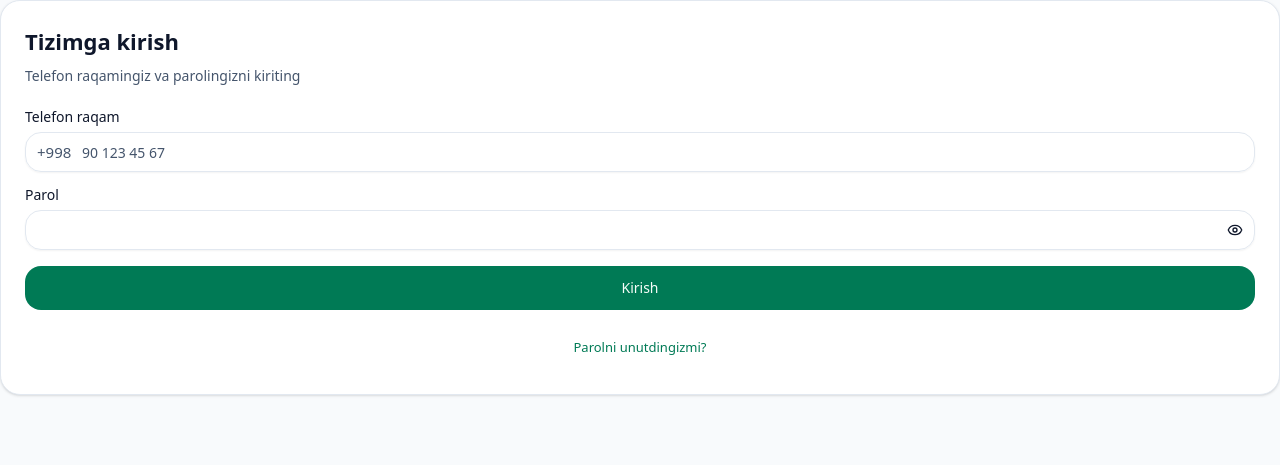
Test: LoginPage › 429 da teskari sanoq ko'rsatiladi va tugma bloklanadi
Type "901234567" into the field labelled "Telefon raqam" at [640, 152], box [25, 132, 1255, 172]
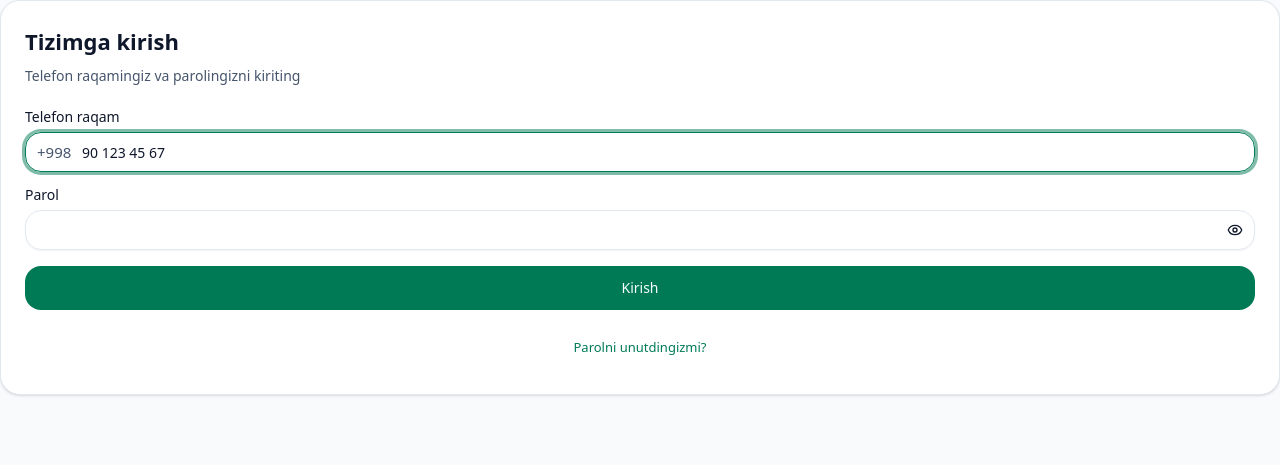
Type "parol123" into the password field labelled "Parol" at [640, 230], box [25, 210, 1255, 250]
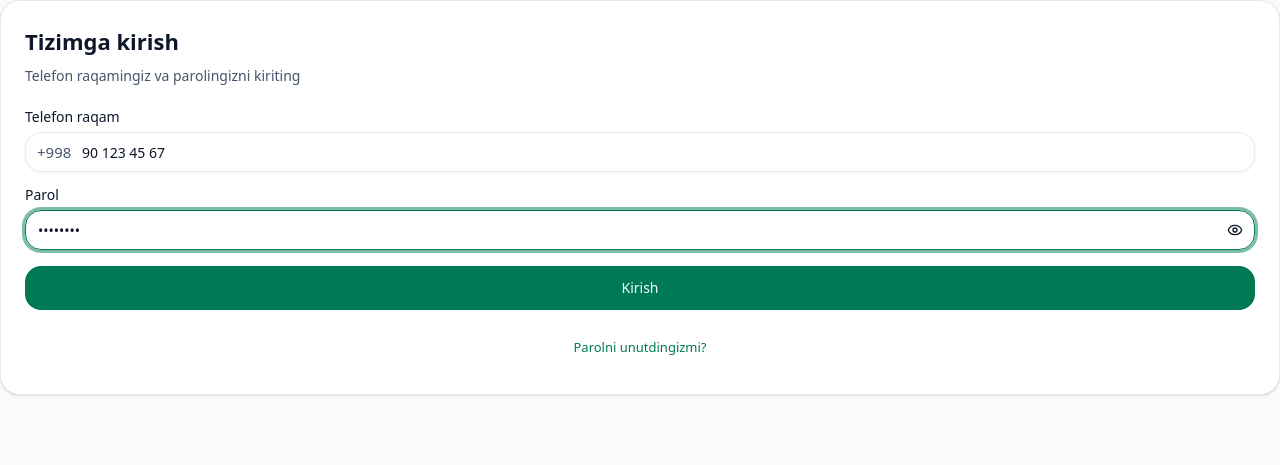
Click the button "Kirish" at [640, 288], box [25, 266, 1255, 310]
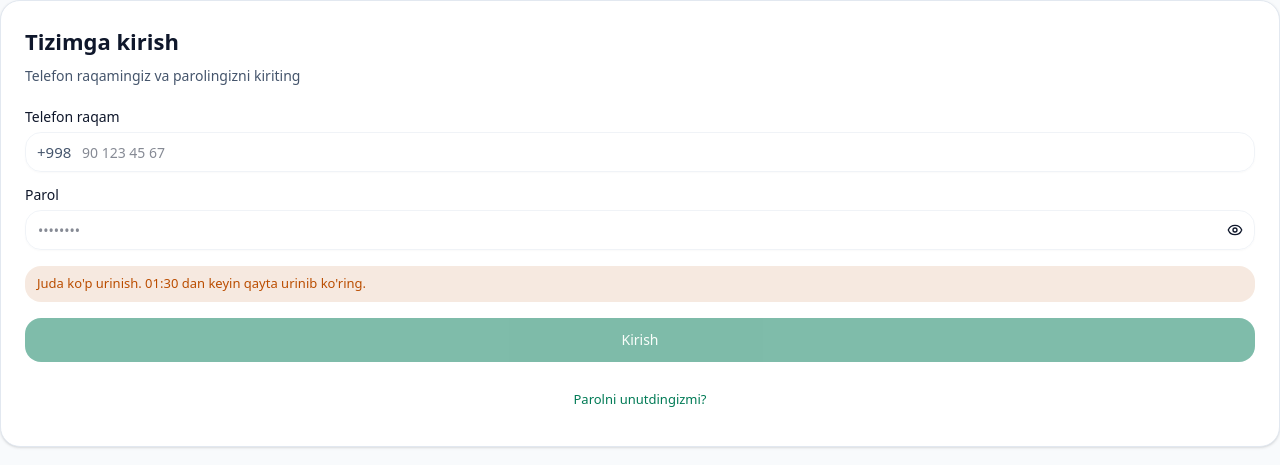
Expected: the text "Juda ko'p urinish. 01:30 dan keyin qayta urinib ko'ring." is shown, [25, 266, 1255, 302]
Expected: the button "Kirish" is disabled, [25, 318, 1255, 362]
